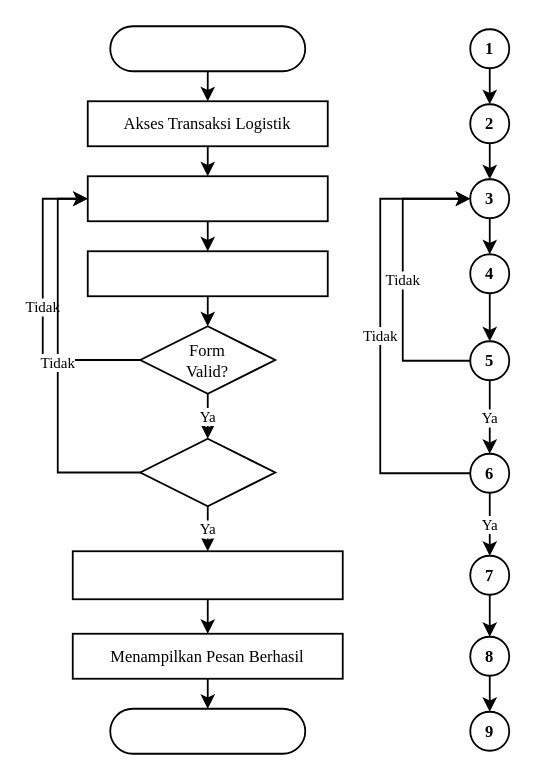
The diagram is 537 pixels wide and 782 high, and some of its shapes have lost their labels. Here are the shapes that lost their labels. From the top down, the centre of each, then its label:
the point at 207,48: Mulai
the point at 207,198: Input Transaksi Material
the point at 207,273: Validasi Form Transaksi
the point at 207,471: Stok Cukup?
the point at 207,574: Simpan Transaksi & Potong Stok
the point at 207,730: Selesai
